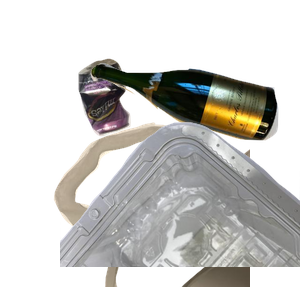glass: (88, 60, 300, 193)
metal: (75, 56, 198, 185)
plastic: (60, 120, 300, 300)
trash: (51, 120, 291, 300)
